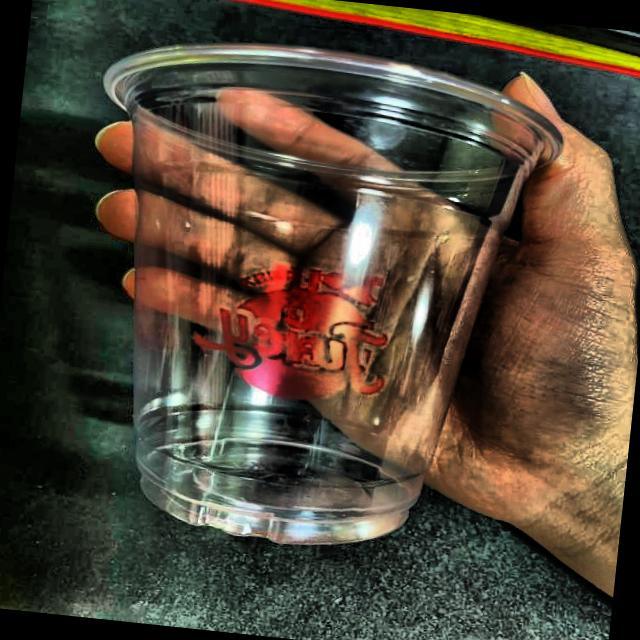plastic cup: (48, 22, 574, 569)
